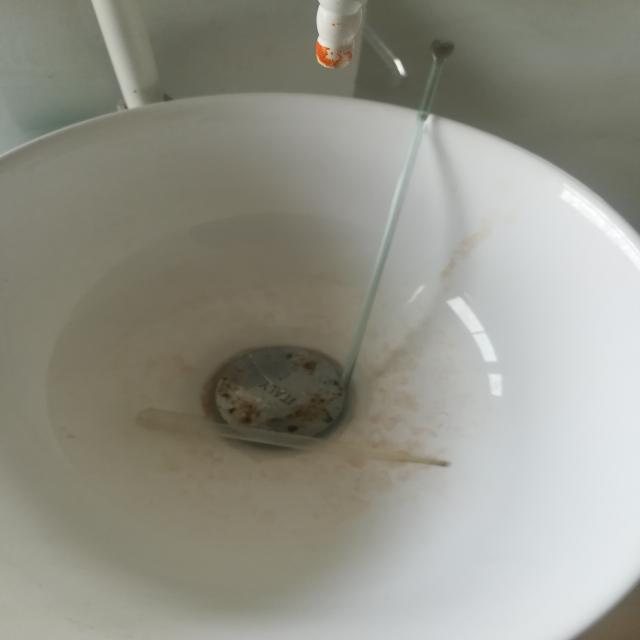Glass_Rod: (301, 19, 488, 406)
Pipette: (114, 391, 483, 498)
